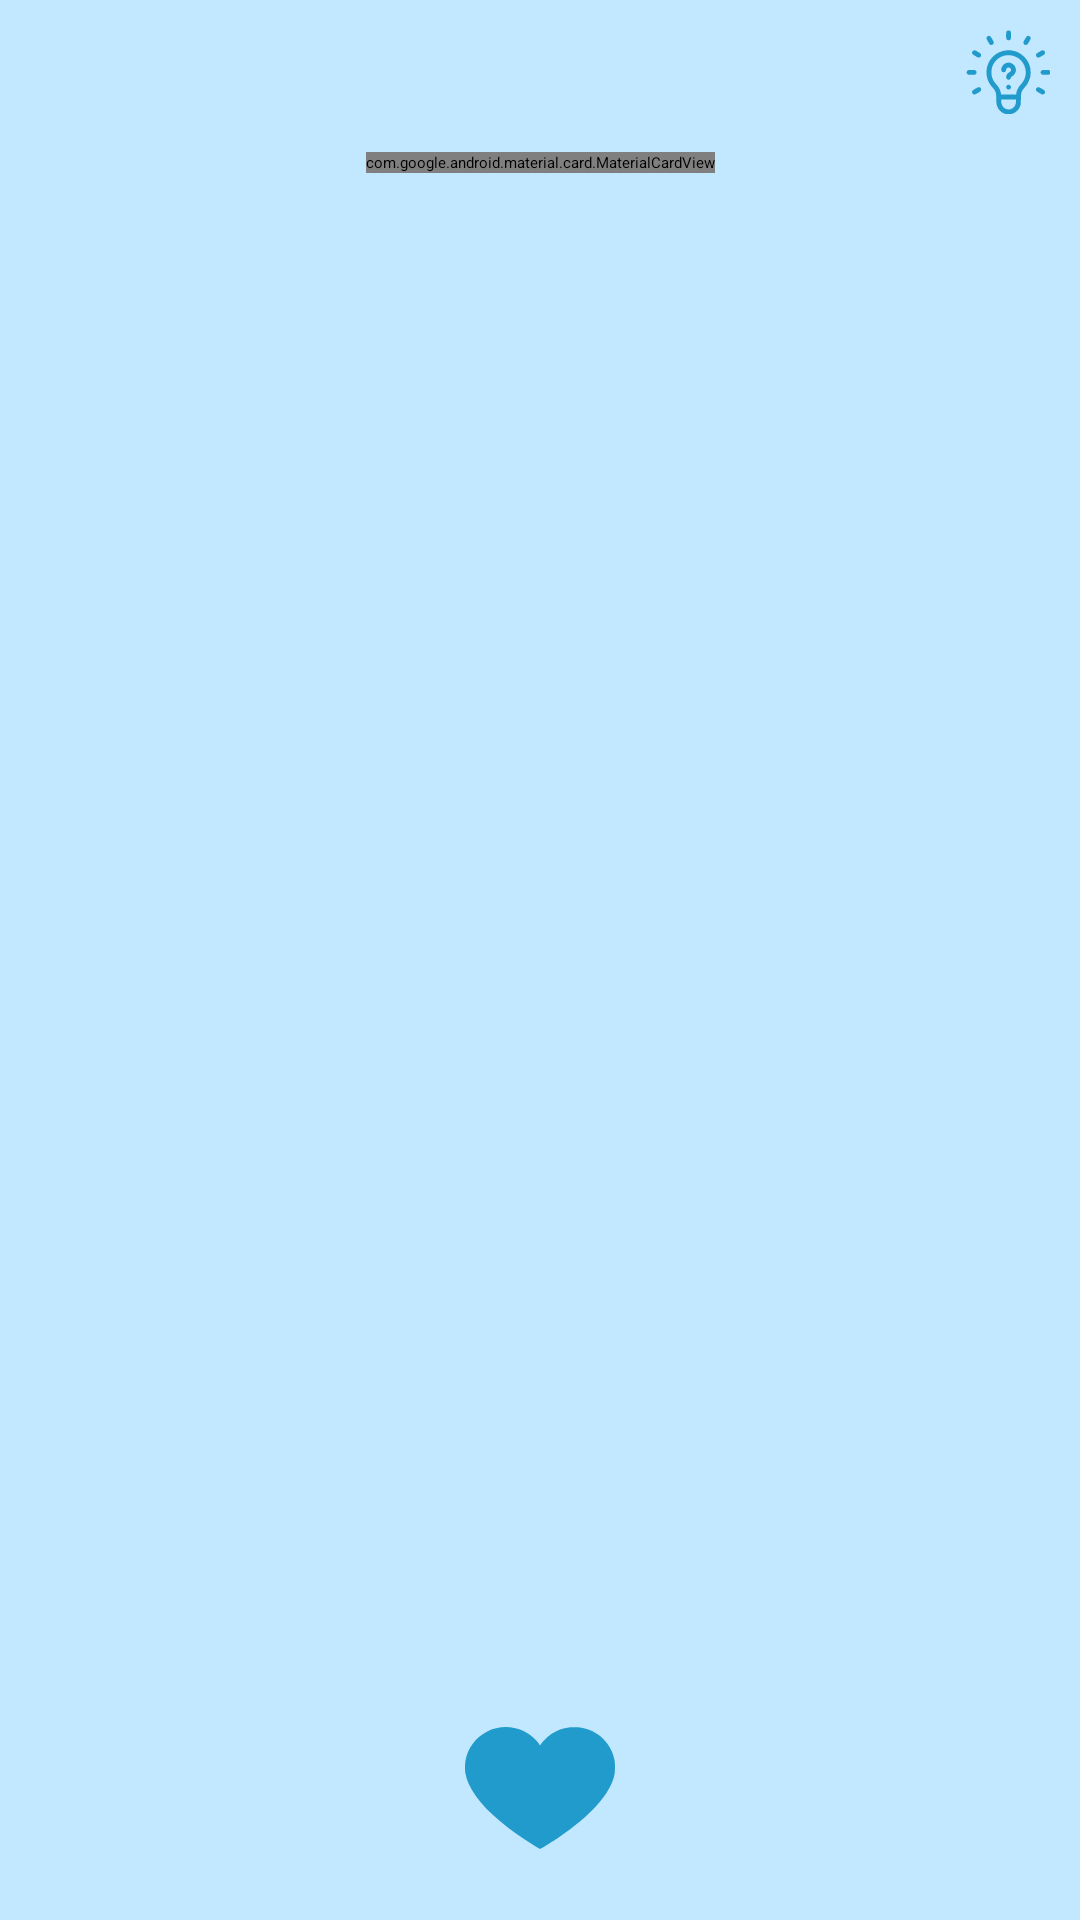

Screen size 1080 × 1920. Icon name, then its center in pixels as point (x, y):
heart: point (540, 1788)
